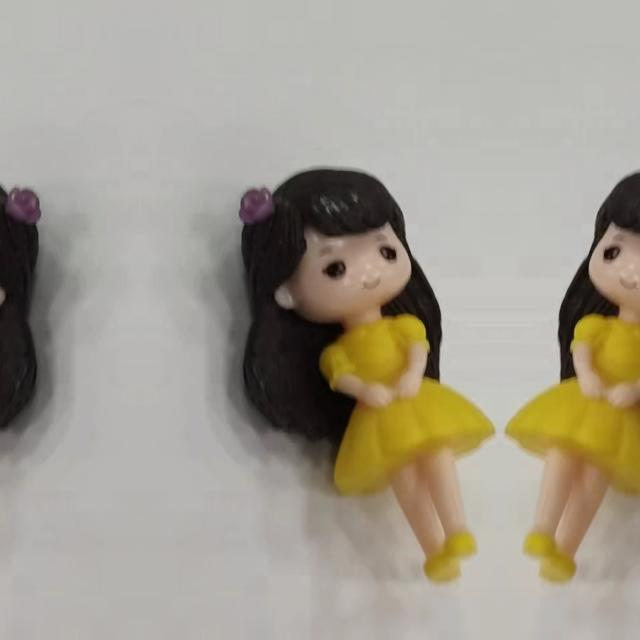woman dress: (308, 310, 500, 592), (499, 310, 640, 592)
woman head: (232, 170, 428, 328), (572, 170, 640, 328), (0, 170, 47, 328)
